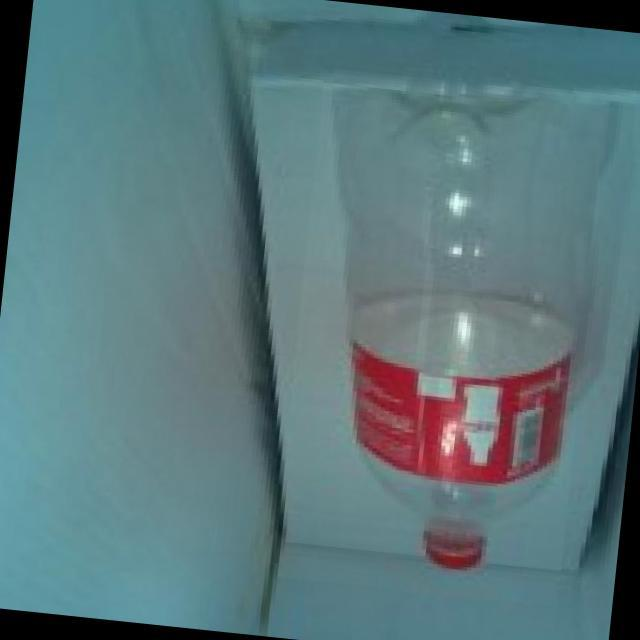good: (270, 70, 609, 604)
